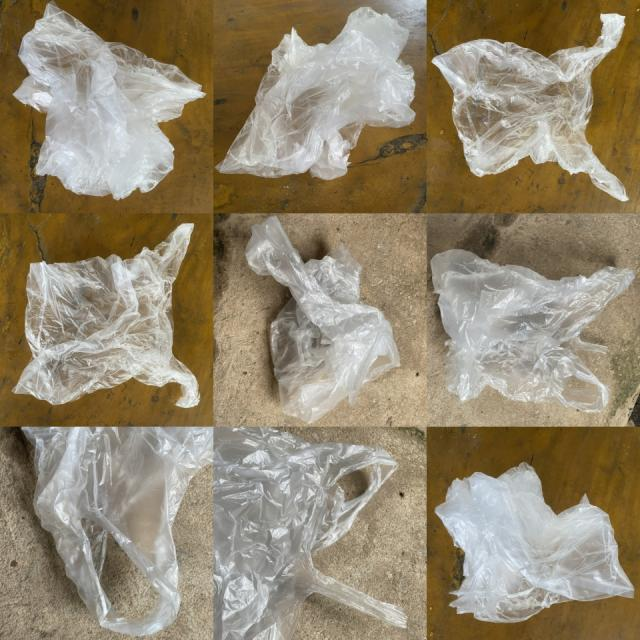Single-layer Plastic: (24, 428, 406, 639), (23, 428, 212, 636), (14, 2, 205, 199), (432, 14, 628, 201), (12, 224, 199, 408), (216, 8, 415, 179), (431, 250, 634, 412), (246, 216, 400, 423), (435, 462, 634, 622)
